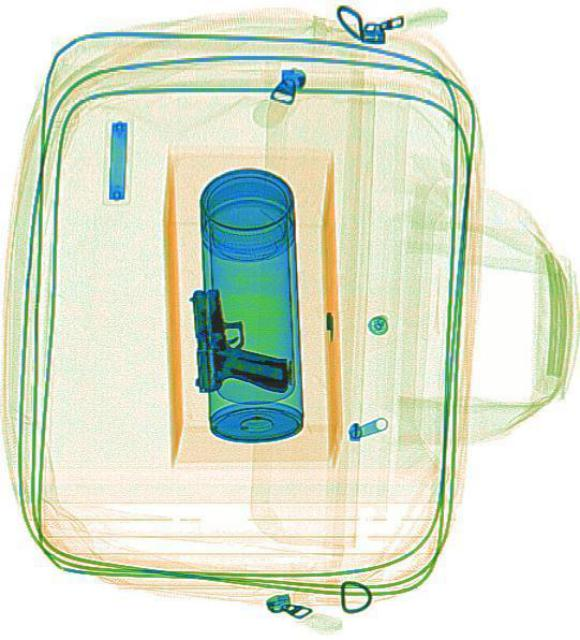Gun: (188, 282, 286, 396)
